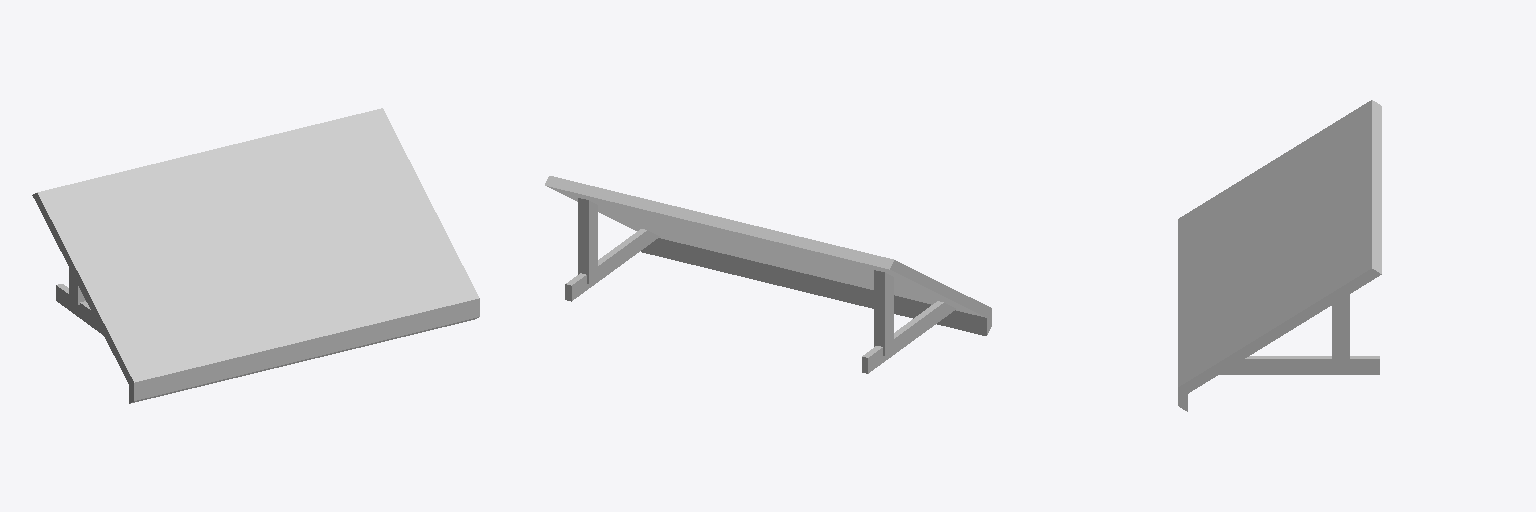
The model's file is Hauvent.obj.
3 renders of one model, left to right at view 1: azimuth 30°, elevation 25°; view 2: azimuth 150°, elevation 25°; view 3: azimuth 270°, elevation 25°, orthographic.
Visible parts, largest first — view 1: pCube2, pCube8, pCube7; view 2: pCube2, pCube8, pCube7; view 3: pCube2, pCube8, pCube7.
Part boxes in pixels (x1,y1,x2,y2): pCube2: (32,114,457,403); pCube8: (59,108,479,397); pCube7: (56,268,103,335); pCube2: (566,181,991,335); pCube8: (545,176,964,330); pCube7: (565,198,955,373); pCube2: (1178,100,1381,411); pCube8: (1178,110,1381,386); pCube7: (1219,294,1379,374).
Bounding box in the file's own units: 330 × 132 × 169.